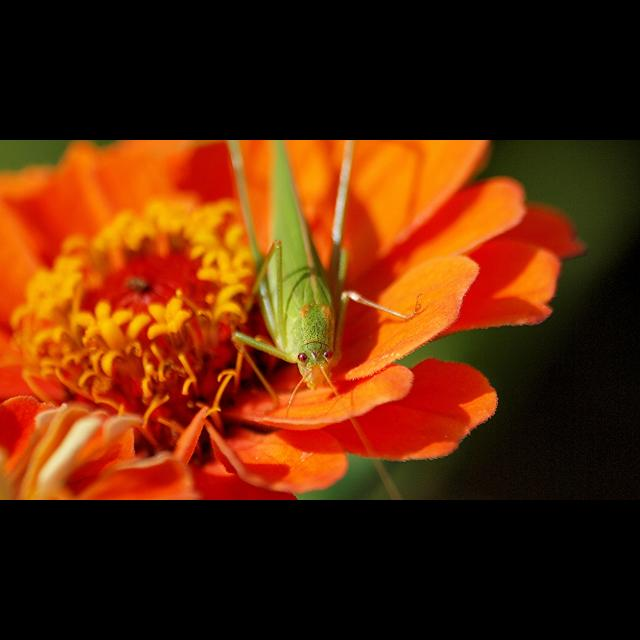Flower: (1, 140, 592, 500)
